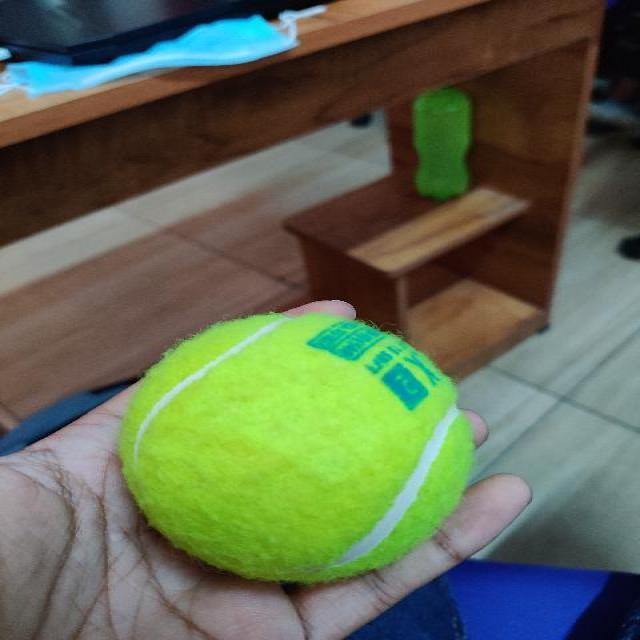tennis-ball: (119, 314, 473, 580)
